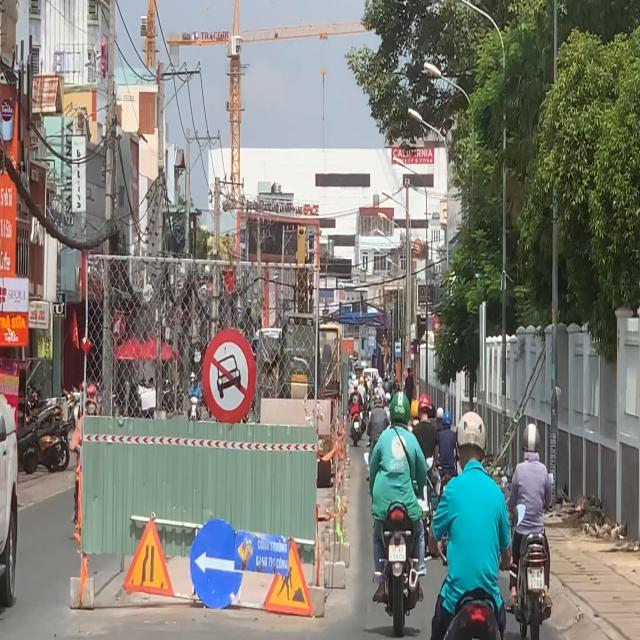Cam con lai: (201, 328, 257, 425)
Nguy hiem: (262, 536, 314, 619), (123, 518, 175, 598)
Re trai: (189, 518, 244, 610)
